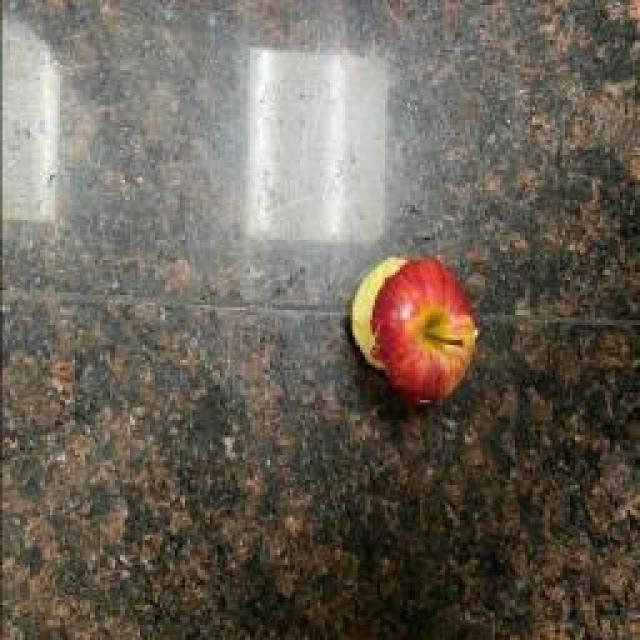Apple: (351, 258, 478, 404)
